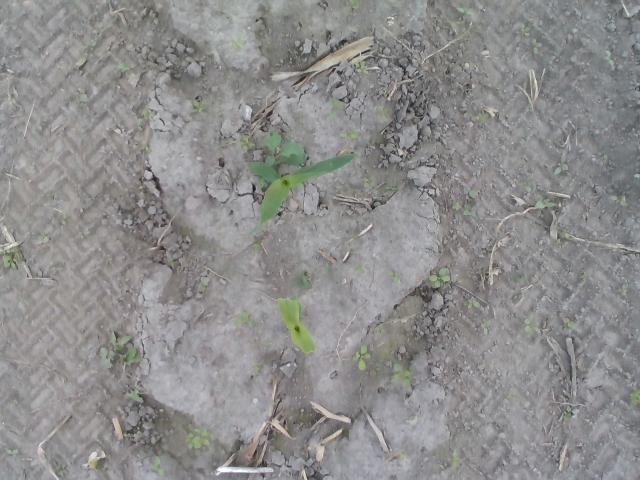Maize: (248, 150, 358, 236), (276, 295, 318, 354)
Weeds: (257, 128, 310, 194), (100, 329, 142, 370), (183, 424, 217, 450), (0, 248, 24, 271), (428, 266, 451, 289), (326, 94, 344, 122), (392, 362, 410, 390), (352, 343, 370, 371), (232, 308, 256, 329), (336, 127, 361, 143), (151, 454, 167, 477), (295, 270, 313, 290), (550, 158, 569, 176), (238, 134, 256, 152), (456, 0, 474, 17), (520, 318, 537, 336), (609, 192, 627, 208), (376, 104, 394, 120), (386, 271, 401, 289), (192, 97, 209, 112), (462, 298, 480, 312), (534, 196, 554, 208), (126, 385, 142, 400), (560, 319, 577, 333), (448, 452, 462, 468), (464, 187, 481, 200), (628, 388, 640, 406), (556, 227, 567, 246), (363, 175, 376, 191), (512, 272, 528, 284), (354, 60, 368, 73), (478, 110, 491, 124), (252, 360, 264, 375), (598, 144, 608, 160), (352, 0, 368, 9), (576, 270, 590, 280), (55, 464, 65, 478), (354, 263, 366, 274), (464, 206, 476, 216), (372, 326, 384, 336), (37, 231, 49, 241), (384, 185, 400, 192), (232, 38, 242, 49), (198, 279, 208, 289), (324, 263, 334, 273), (62, 214, 72, 224), (452, 199, 461, 210), (118, 64, 128, 73), (399, 449, 408, 459), (564, 406, 572, 417), (520, 23, 528, 33), (144, 111, 152, 121), (143, 144, 151, 153), (88, 40, 96, 48), (80, 95, 88, 103)
